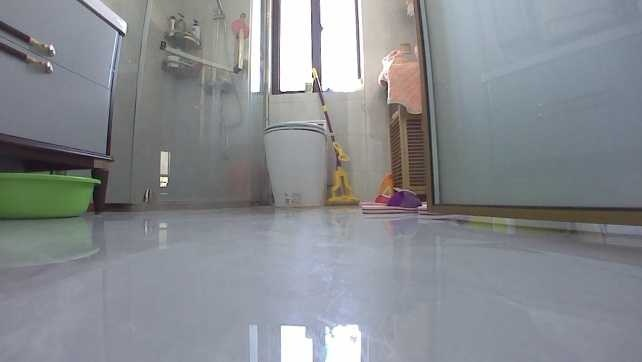door_anno: (412, 0, 641, 226)
slipper: (355, 187, 425, 215)
toilet: (261, 114, 329, 208)
